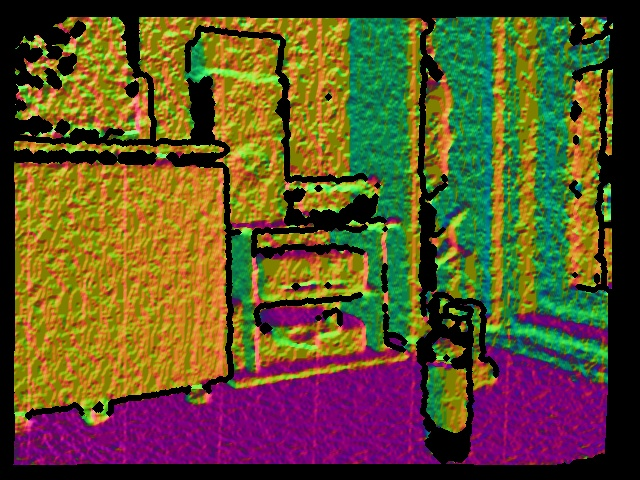station: (423, 294, 499, 394)
